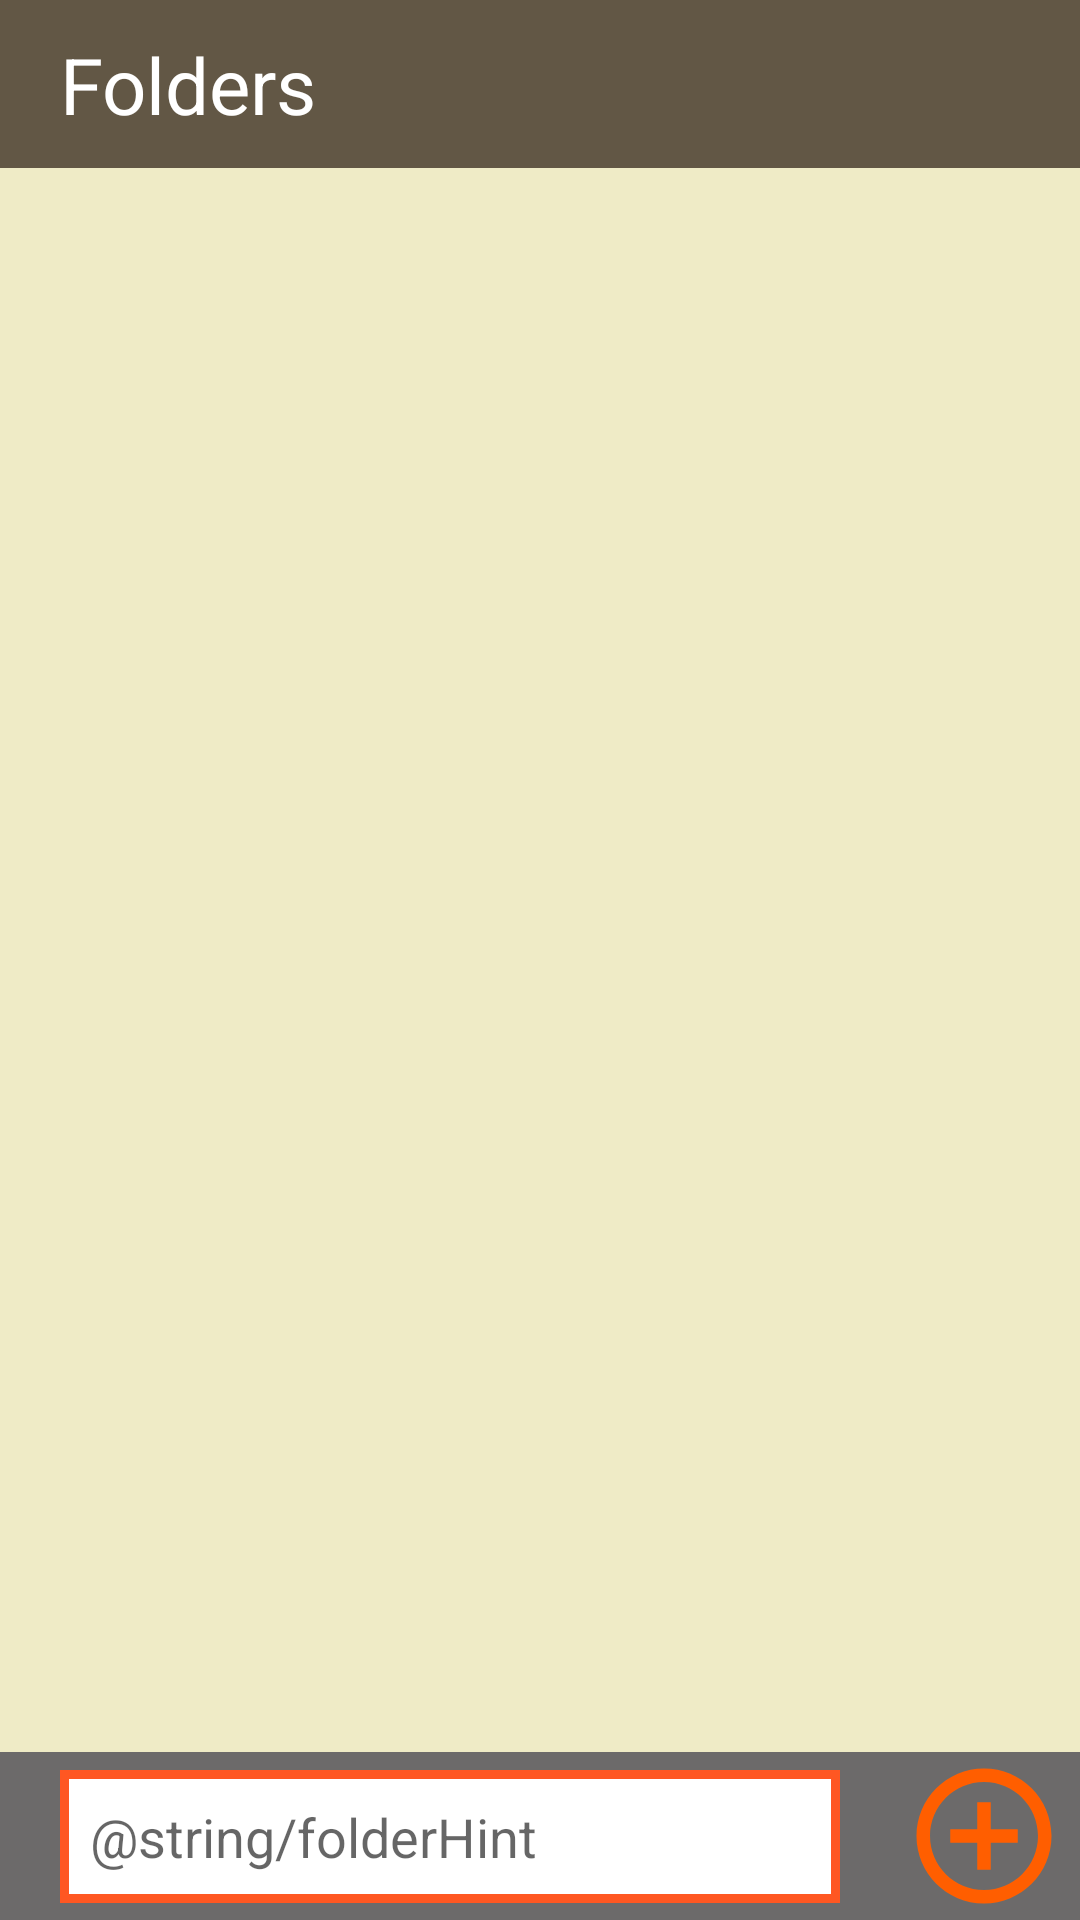

Where to tap for icons on this 1080w x 1920h app screen, as (x=x, y=y):
add circle: (x=984, y=1836)
